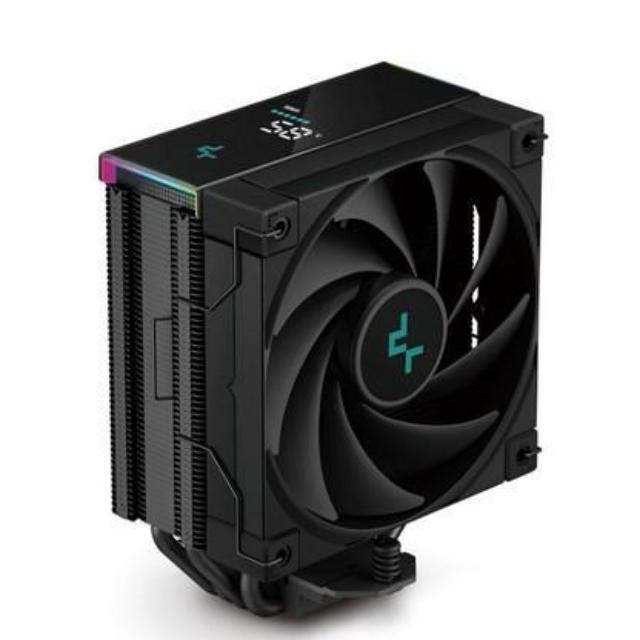CPU_Fan: (96, 55, 544, 620)
